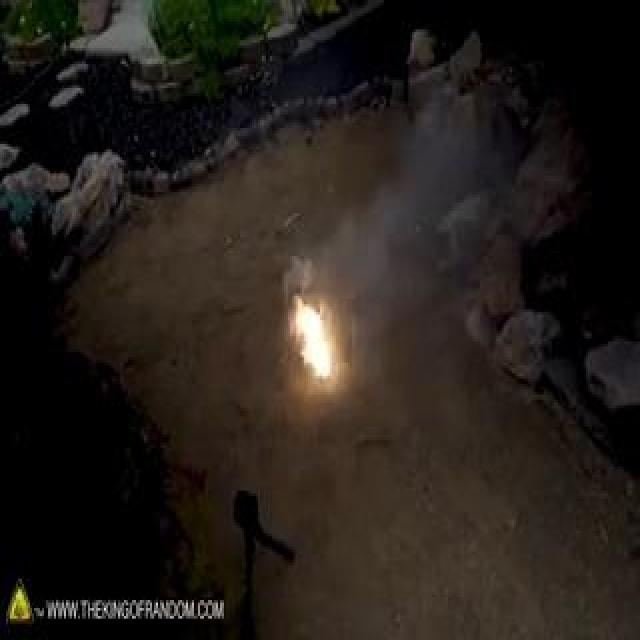Fire: (56, 104, 319, 358)
